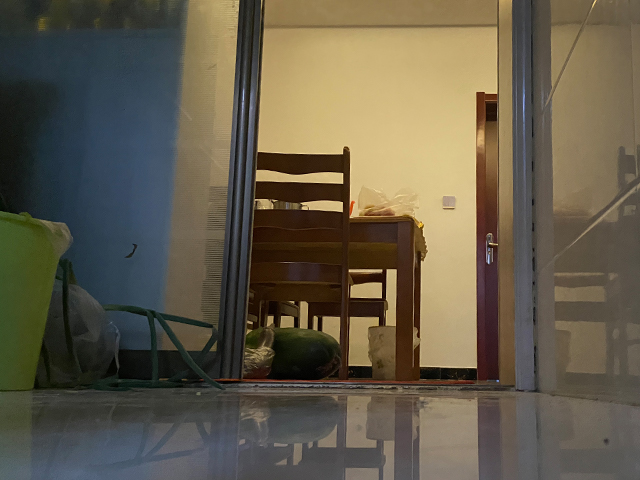carpet: (210, 377, 476, 386)
stool: (243, 146, 352, 383), (247, 266, 391, 383)
table: (246, 211, 429, 383)
trashcan: (1, 209, 73, 395), (362, 322, 398, 382)
